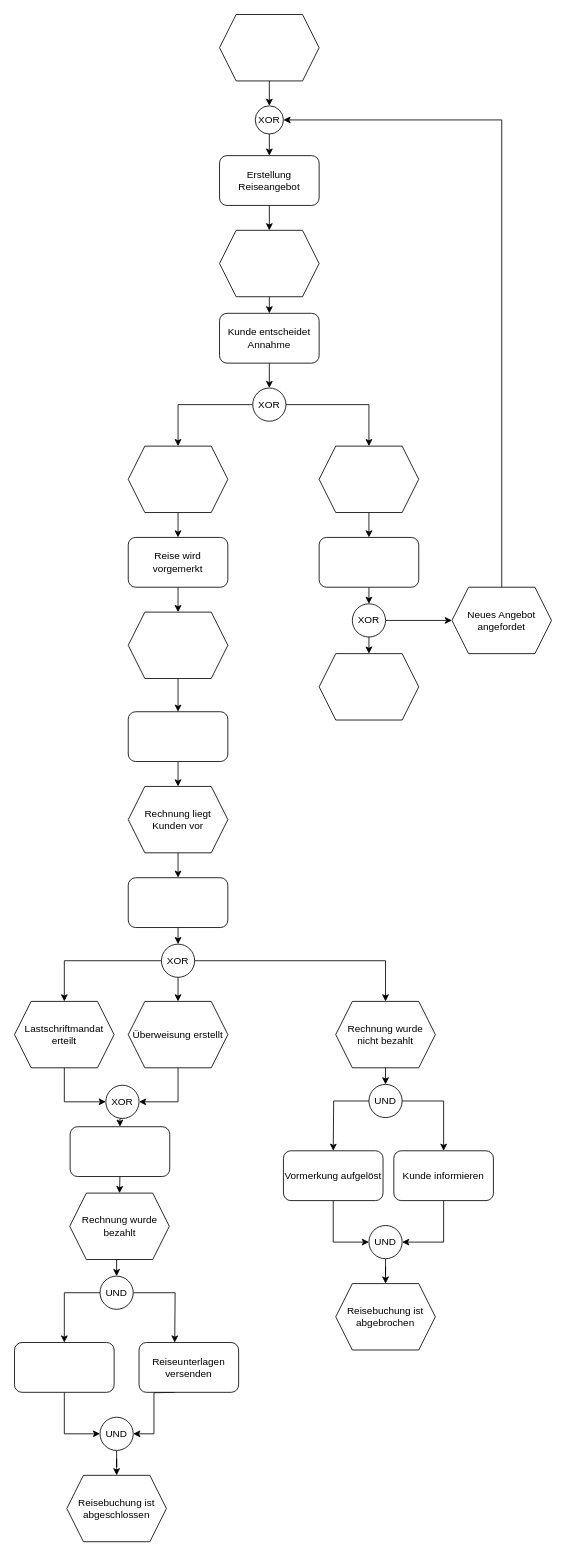
This 566x1556 diagram has some shape labels left out. The centre of each missing label's shape, as x and y in pixels:
"Buchung ist abbgebrochen" goes at [368,686].
"Kunde bearbeitet Rechnung" goes at [177,902].
"Kunde entscheidet weiteres Vorgehen" goes at [368,562].
"Rechnung wird erstellt und an Kunden weitergeleitet" goes at [177,736].
"Reise buchen" goes at [64,1367].
"Reise ist vorgemerkt" goes at [177,645].
"Reiseangebot ist abgelehnt" goes at [368,479].
"Reiseangebot ist angenommen" goes at [177,479].
"Reiseangebot ist erstellt" goes at [269,263].
"Reisewunsch wird geäußert" goes at [269,47].
"Zahlungseingang wird bearbeitet" goes at [119,1151].
